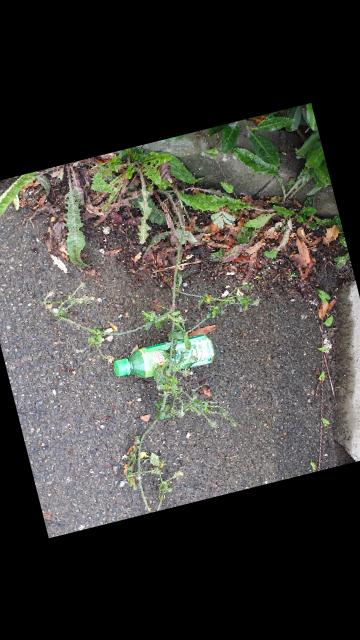plastic: (114, 341, 171, 377), (173, 334, 215, 367)
